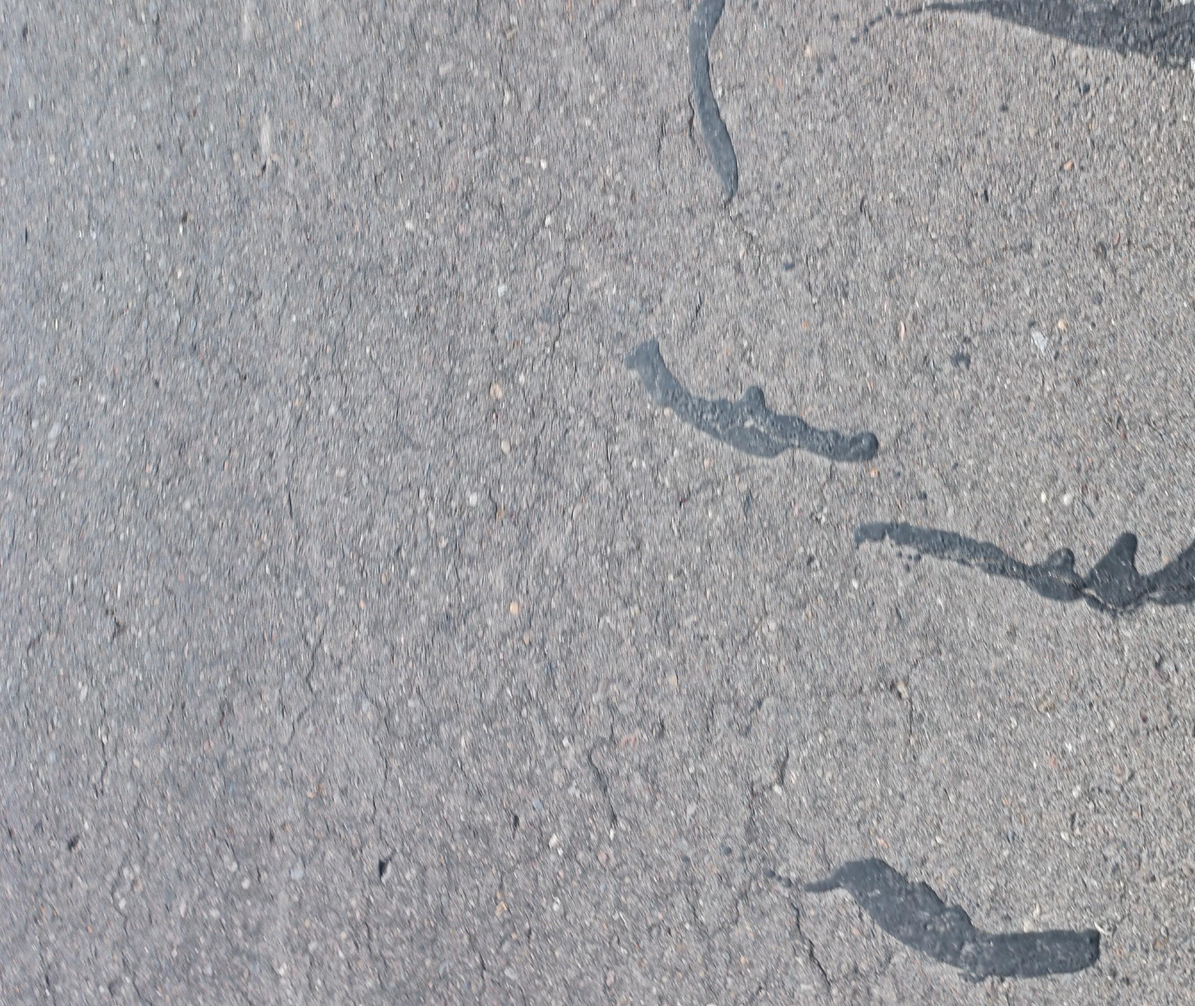PIEL DE COCODRILO: (0, 1, 924, 1006)
